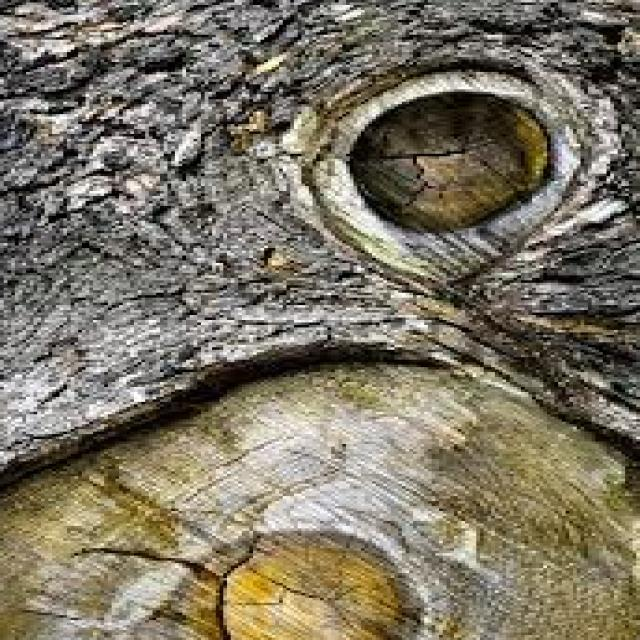have-wooden-eyes: (351, 92, 549, 230), (225, 536, 405, 640)
